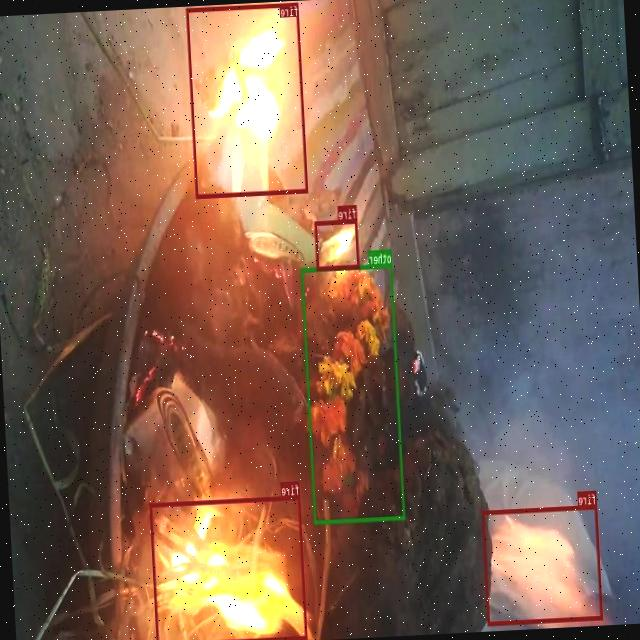fire: (187, 1, 309, 198), (150, 494, 308, 640), (482, 504, 604, 626), (314, 219, 360, 270)
